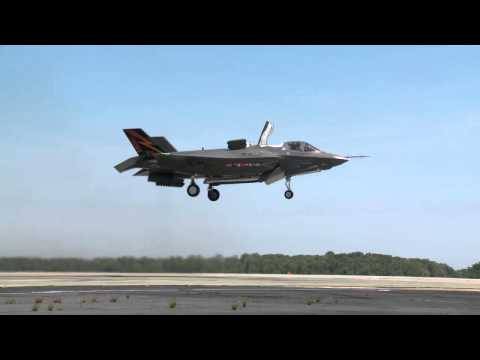F35: (111, 117, 374, 204)
